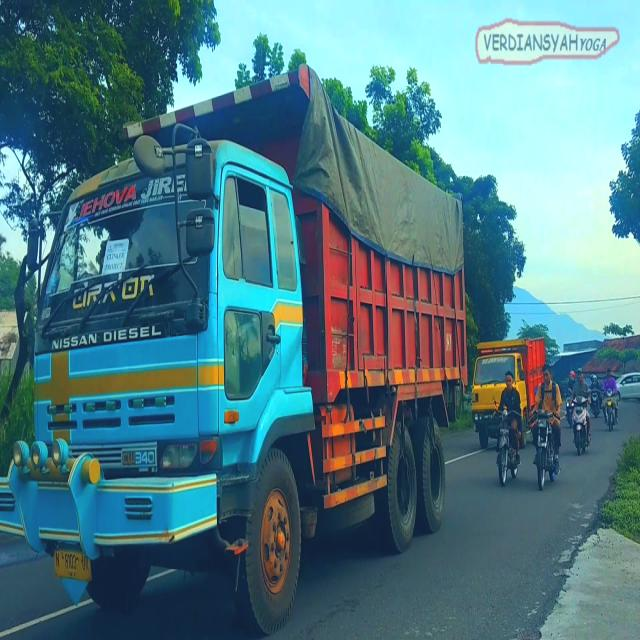truck: (1, 66, 465, 640), (468, 318, 558, 460)
